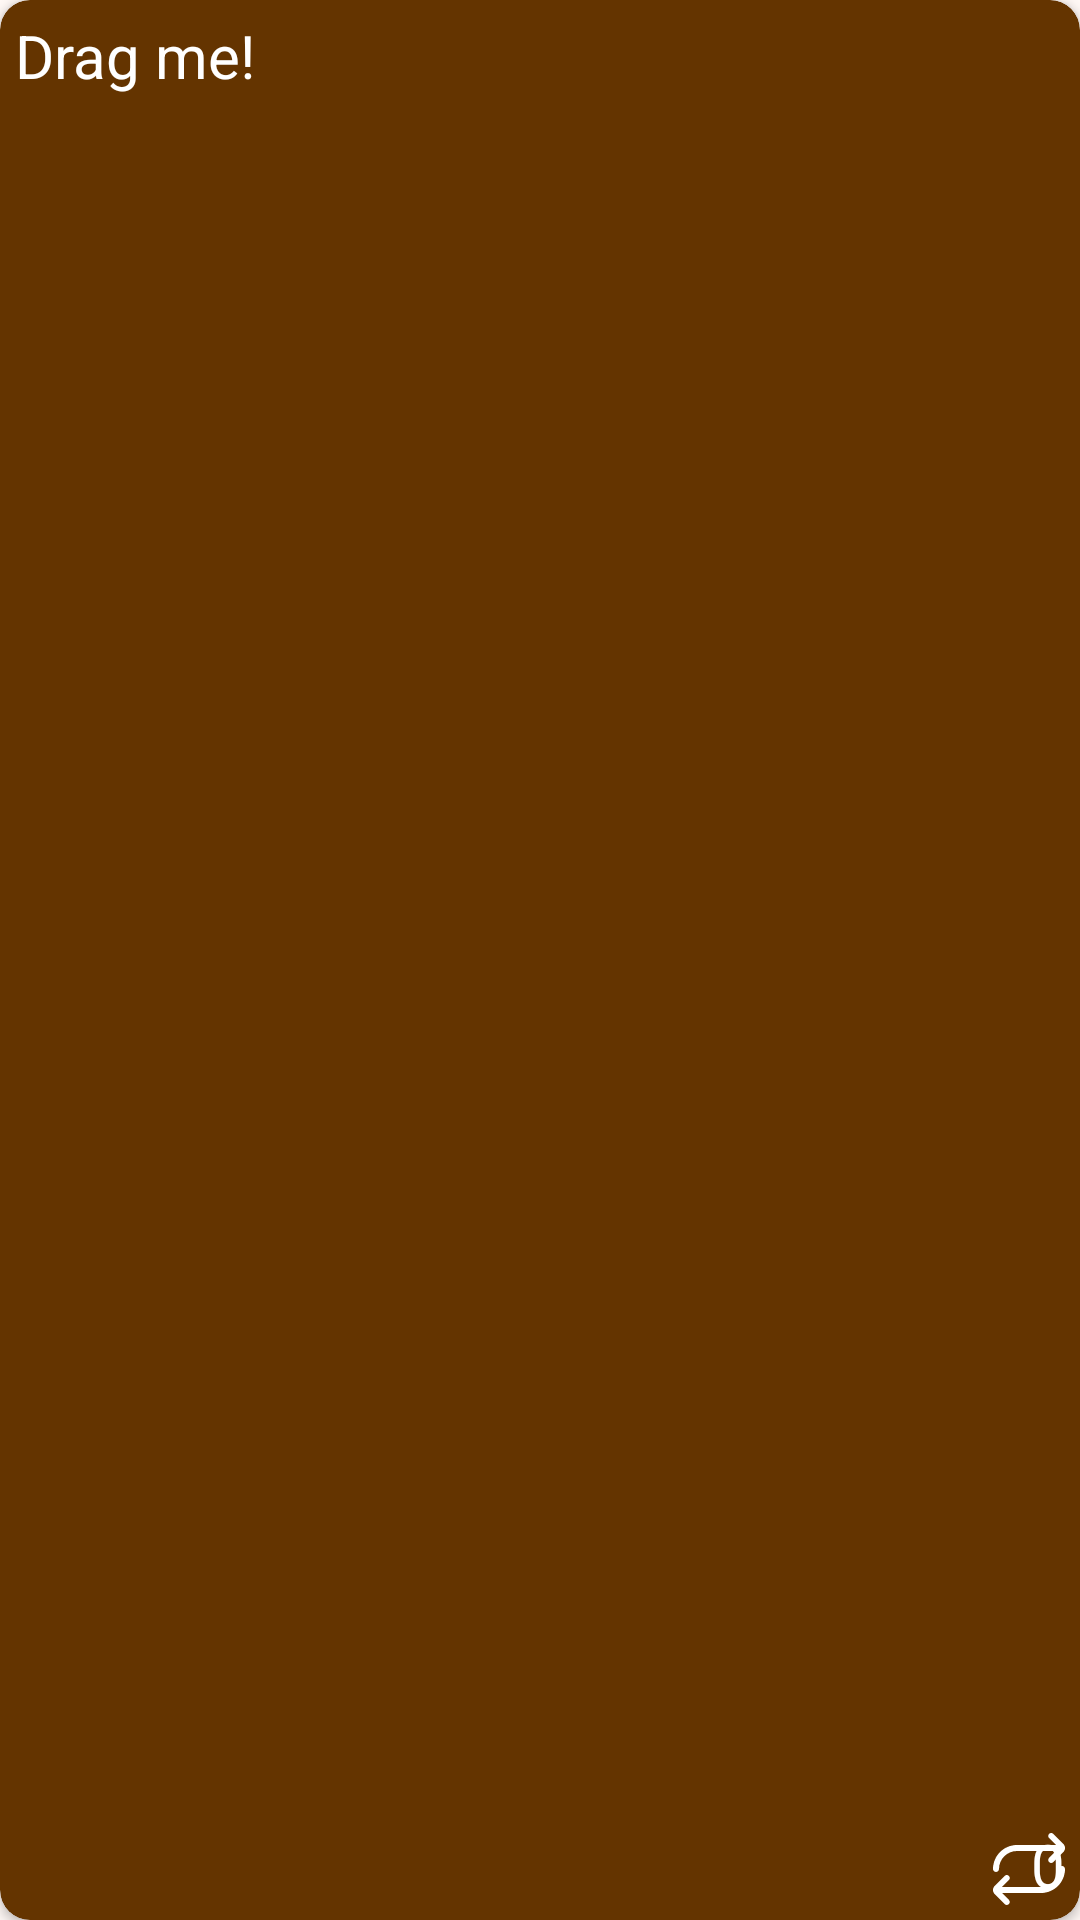

Where to tap for icons on this 1080px×1920px app screen, as (x=x, y=y):
flip: (x=1029, y=1869)
